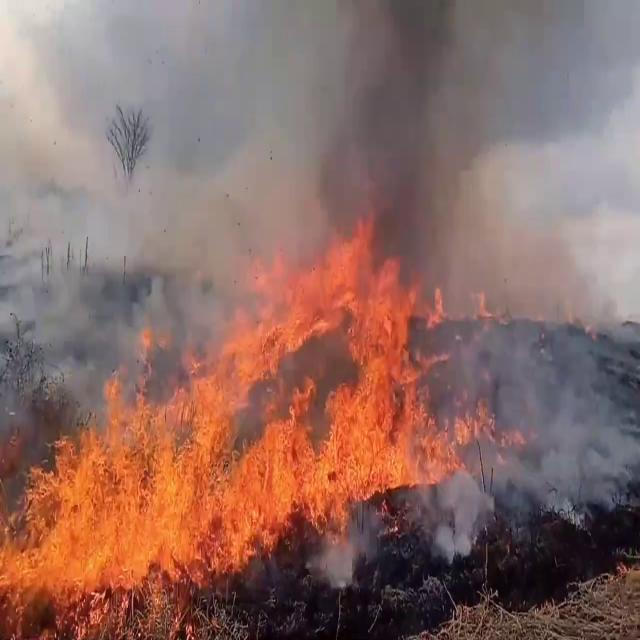Fire: (2, 209, 468, 592)
Smoke: (3, 0, 594, 366), (426, 316, 640, 560)
